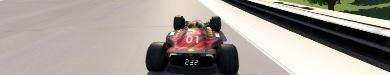Car: (144, 14, 239, 74)
Tree: (305, 0, 343, 10)
obstacles-Borders: (197, 0, 389, 74)
